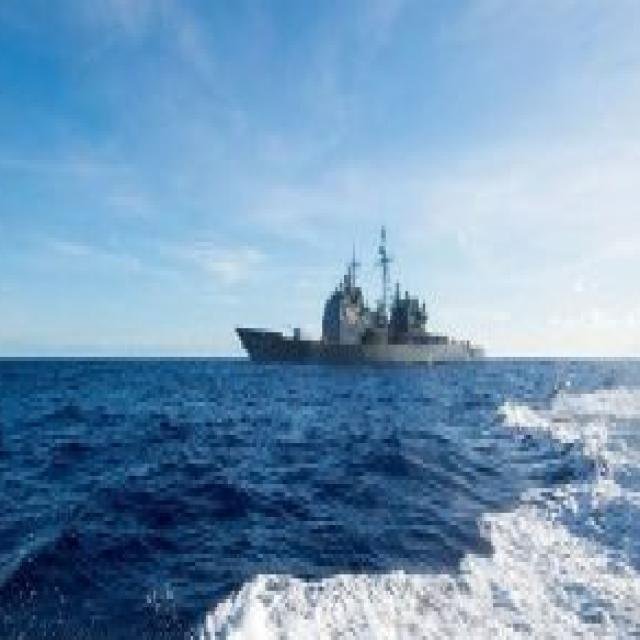navalvessels: (228, 238, 479, 362)
